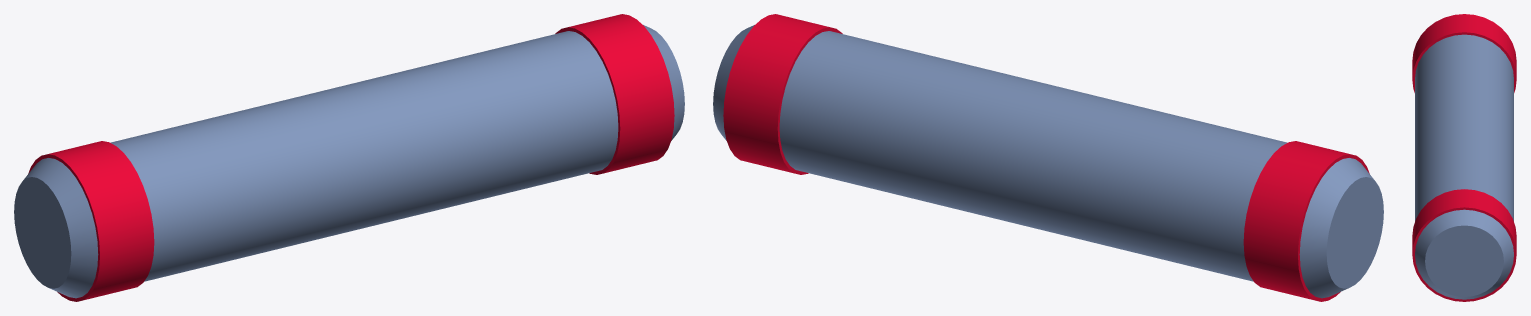
The model's file is paddle.fbx.
3 renders of one model, left to right at view 1: azimuth 30°, elevation 25°; view 2: azimuth 150°, elevation 25°; view 3: azimuth 270°, elevation 25°, orthographic. The views are drawn at different scales.
Visible parts, largest first — view 1: Cylinder; view 2: Cylinder; view 3: Cylinder.
Part boxes in pixels (x1,y1,x2,y2): Cylinder: (14, 14, 684, 301); Cylinder: (713, 14, 1383, 301); Cylinder: (1412, 14, 1516, 301).
Bounding box in the file's own units: 746 × 159 × 159.
